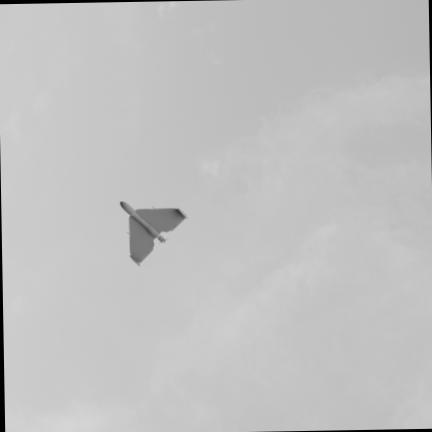Shahed: (119, 201, 186, 264)
